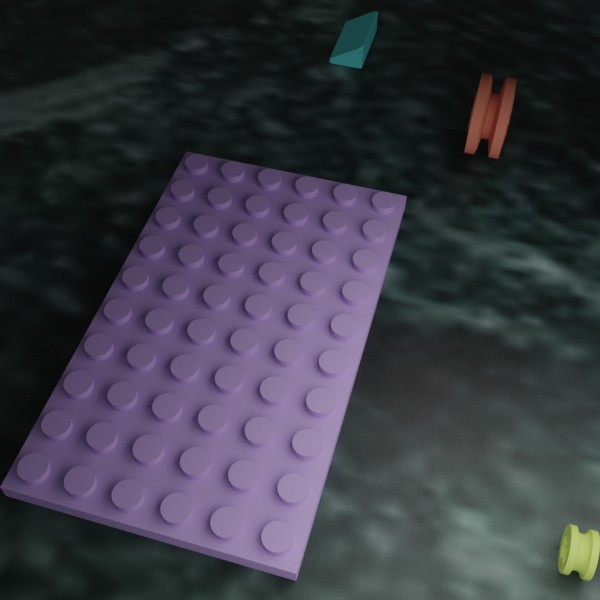lego: (0, 151, 406, 580), (464, 72, 516, 158), (329, 11, 377, 68), (558, 523, 600, 580)
